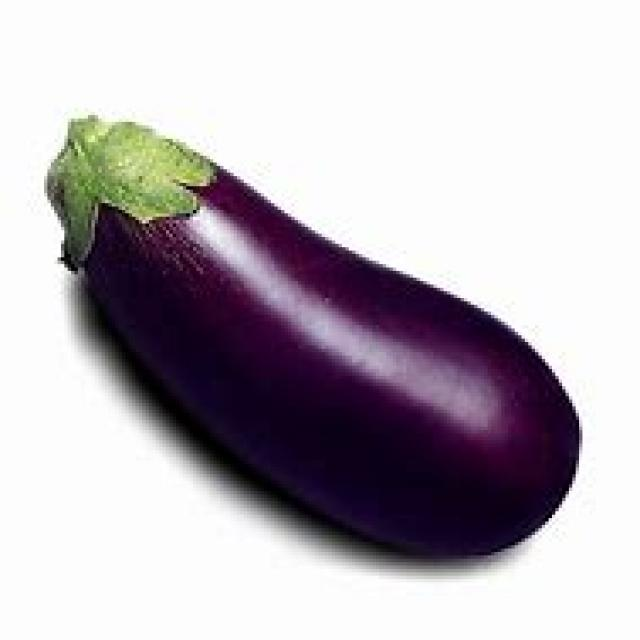Eggplant: (42, 105, 591, 568)
